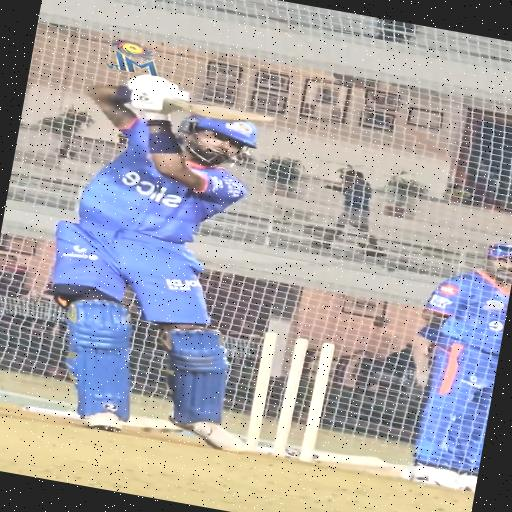Cricket bat: (165, 99, 274, 122)
